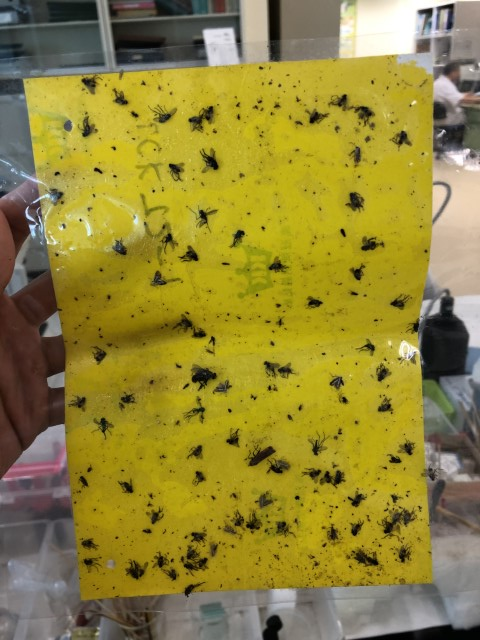DBM: (210, 378, 234, 397), (347, 141, 364, 166), (149, 268, 168, 288), (255, 493, 276, 510), (271, 456, 293, 471), (329, 374, 343, 391)
